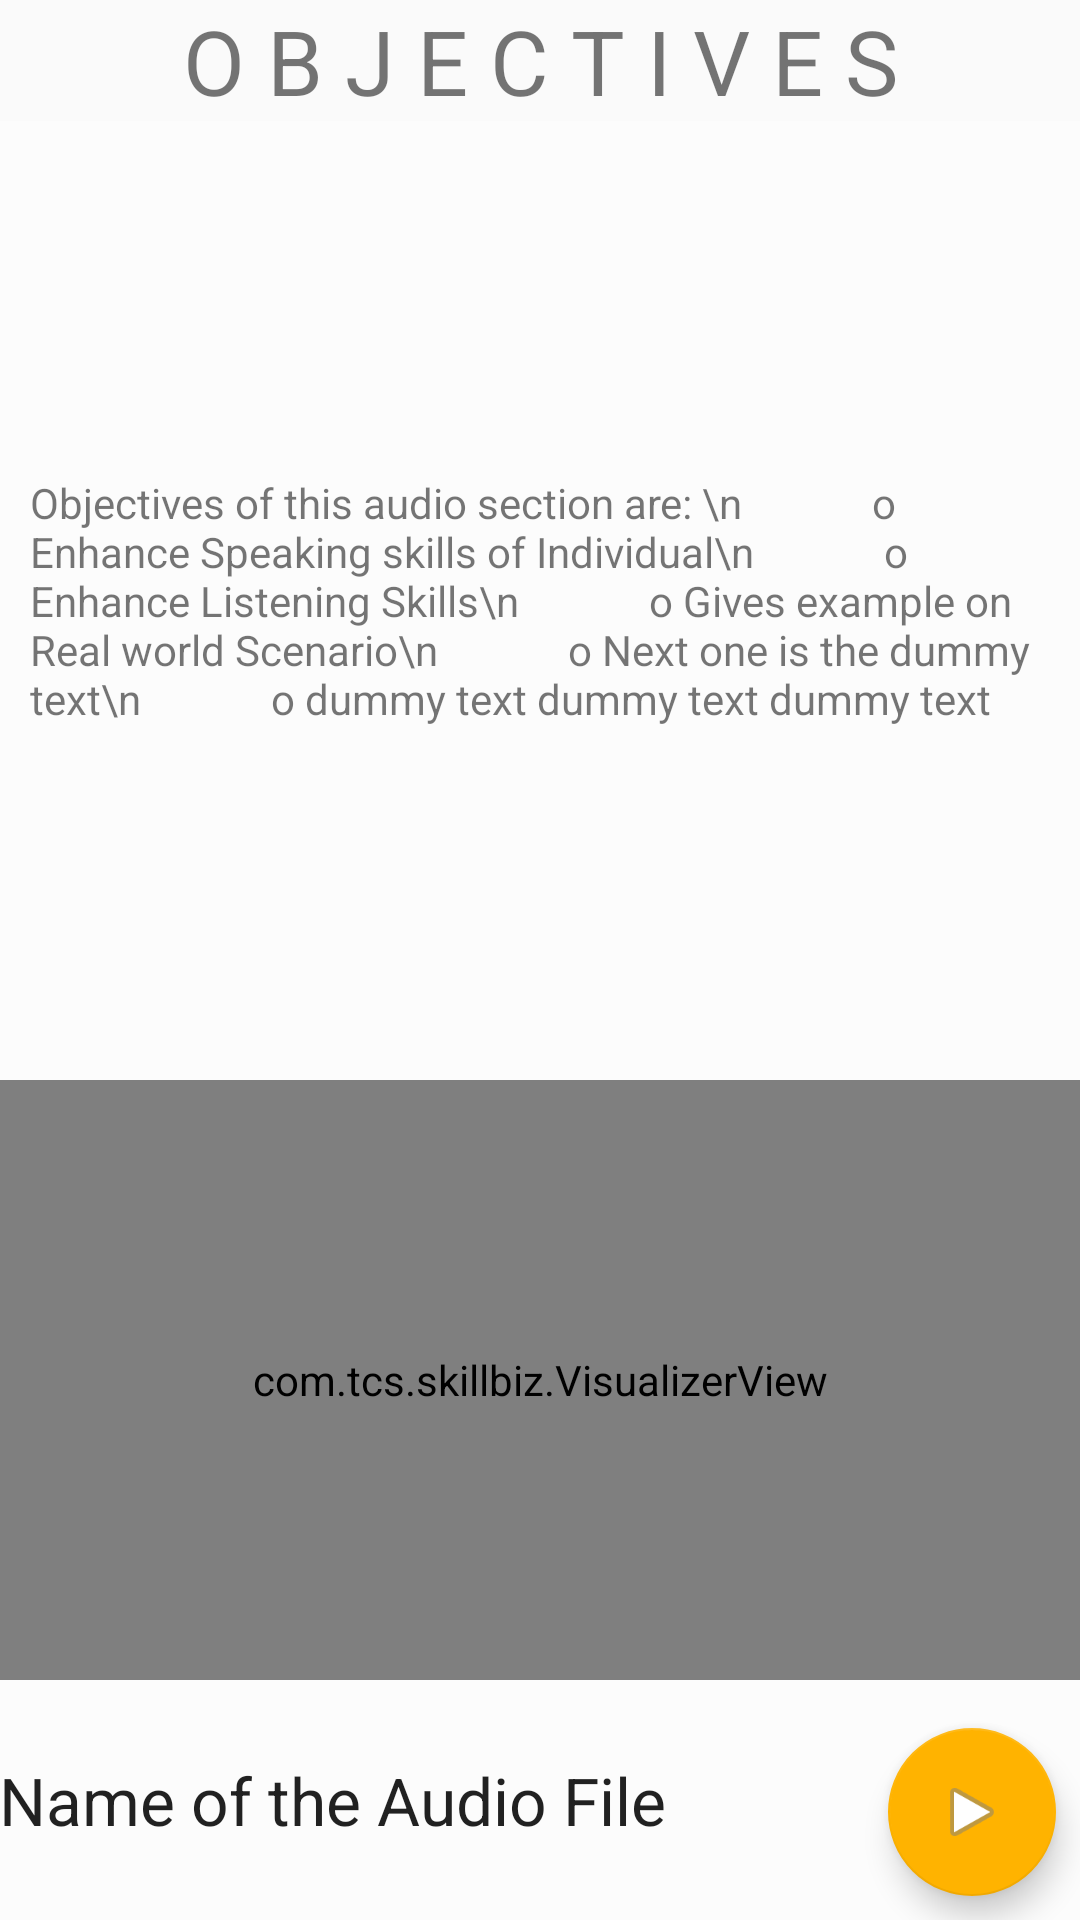

Screen size 1080w x 1920h. Icon name, then its box in pixels as [x1=x1, y1=y1, x2=x2, y2=y2]:
play: [x1=888, y1=1728, x2=1056, y2=1896]
